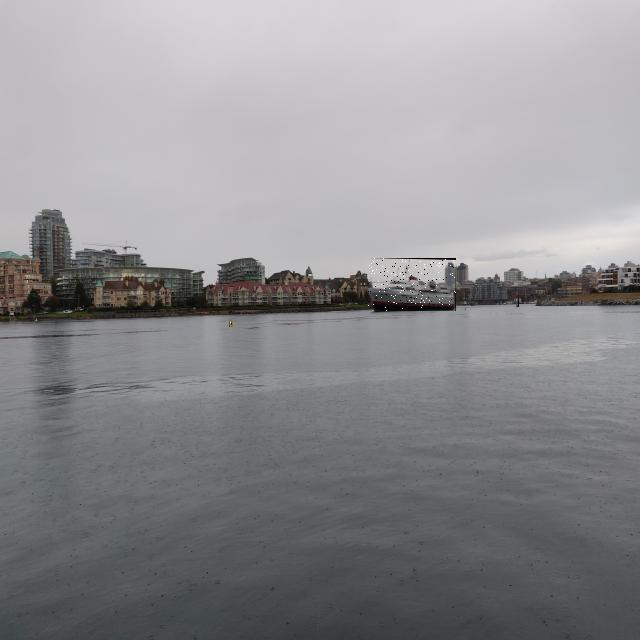boat: (368, 258, 456, 311)
mark: (516, 291, 519, 307), (229, 318, 234, 327), (472, 298, 474, 306), (35, 318, 38, 322), (240, 311, 242, 315), (465, 307, 466, 310)
